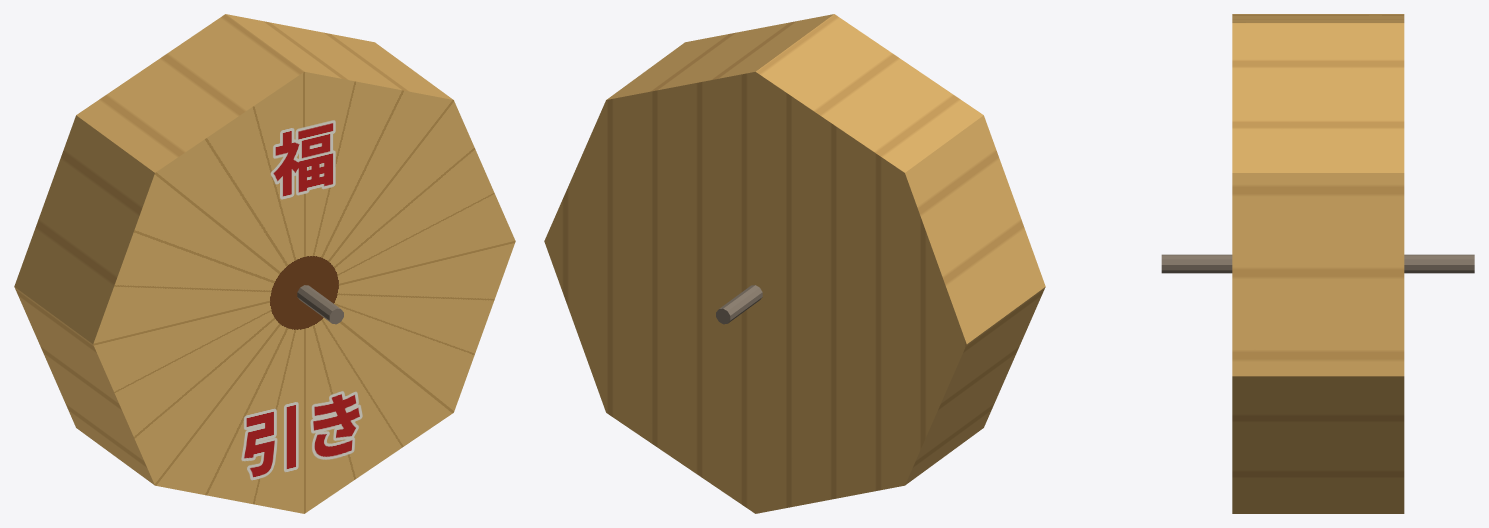
The model's file is garagara_2tou_3d.glb.
3 renders of one model, left to right at view 1: azimuth 30°, elevation 25°; view 2: azimuth 150°, elevation 25°; view 3: azimuth 270°, elevation 25°, orthographic. The views are drawn at different scales.
Parts seen in each view (by area): view 1: garagara_drum, garagara_axle; view 2: garagara_drum, garagara_axle; view 3: garagara_drum, garagara_axle.
Boxes of the visible parts, x1,y1,x2,y2 form: garagara_drum: (14,14,515,513); garagara_axle: (297,285,343,324); garagara_drum: (544,14,1045,513); garagara_axle: (716,285,762,324); garagara_drum: (1232,14,1404,513); garagara_axle: (1161,254,1474,273).
Size of the model in its own units: 1.7 by 1.7 by 1.28.
Materials: 4 (3 with a texture image).
